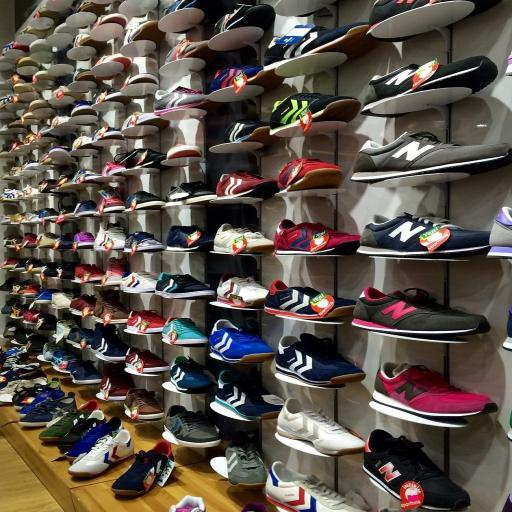shoe: (263, 0, 442, 70), (363, 430, 470, 510), (350, 132, 512, 184), (362, 56, 498, 116), (352, 287, 490, 337), (372, 363, 498, 417), (357, 212, 490, 258), (276, 398, 365, 456), (264, 461, 363, 512), (275, 333, 366, 386), (270, 92, 360, 134), (264, 280, 356, 319), (367, 0, 450, 42), (215, 370, 284, 420), (165, 0, 217, 64), (68, 429, 134, 477), (274, 219, 360, 255), (209, 319, 274, 363), (38, 400, 100, 442), (66, 417, 122, 461), (92, 87, 132, 147), (164, 405, 221, 447), (225, 432, 267, 488), (278, 158, 343, 192), (209, 65, 282, 94), (58, 410, 106, 454), (18, 393, 76, 427), (93, 93, 129, 147), (95, 186, 125, 250), (214, 4, 275, 35), (216, 170, 278, 200), (214, 224, 274, 254), (216, 274, 268, 308), (15, 384, 66, 418), (154, 86, 213, 115), (170, 356, 214, 394), (154, 273, 216, 299), (3, 327, 40, 369), (94, 203, 126, 251), (90, 324, 130, 362), (224, 118, 278, 146), (70, 100, 98, 148), (121, 111, 169, 139), (100, 363, 135, 401), (124, 388, 165, 420), (487, 207, 512, 259), (162, 317, 208, 345), (166, 181, 217, 206), (0, 363, 47, 390), (93, 289, 129, 324), (166, 225, 214, 251), (126, 346, 170, 374), (0, 379, 47, 405), (91, 53, 132, 81), (114, 148, 166, 170), (90, 12, 128, 42), (124, 20, 165, 46), (32, 262, 60, 296), (124, 231, 166, 253), (126, 310, 166, 333), (120, 271, 158, 293), (125, 191, 166, 211), (166, 144, 203, 166), (38, 178, 58, 218), (70, 361, 103, 385), (61, 264, 105, 282), (50, 350, 82, 374), (38, 185, 59, 221), (2, 346, 30, 372), (102, 257, 127, 286), (37, 214, 58, 248), (66, 325, 94, 349), (10, 303, 41, 323), (169, 495, 205, 512), (11, 306, 44, 324), (53, 320, 78, 342), (3, 234, 36, 248), (0, 257, 30, 272), (26, 333, 46, 355), (12, 282, 39, 298), (42, 340, 61, 362), (34, 288, 60, 304), (101, 161, 126, 177), (74, 200, 97, 217), (57, 262, 78, 280), (14, 232, 37, 248), (0, 298, 21, 315), (0, 256, 24, 270), (74, 232, 94, 248), (2, 321, 18, 339), (501, 493, 512, 512)
